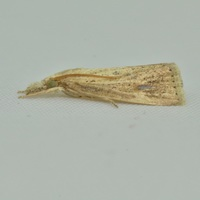insect: (18, 63, 184, 106)
